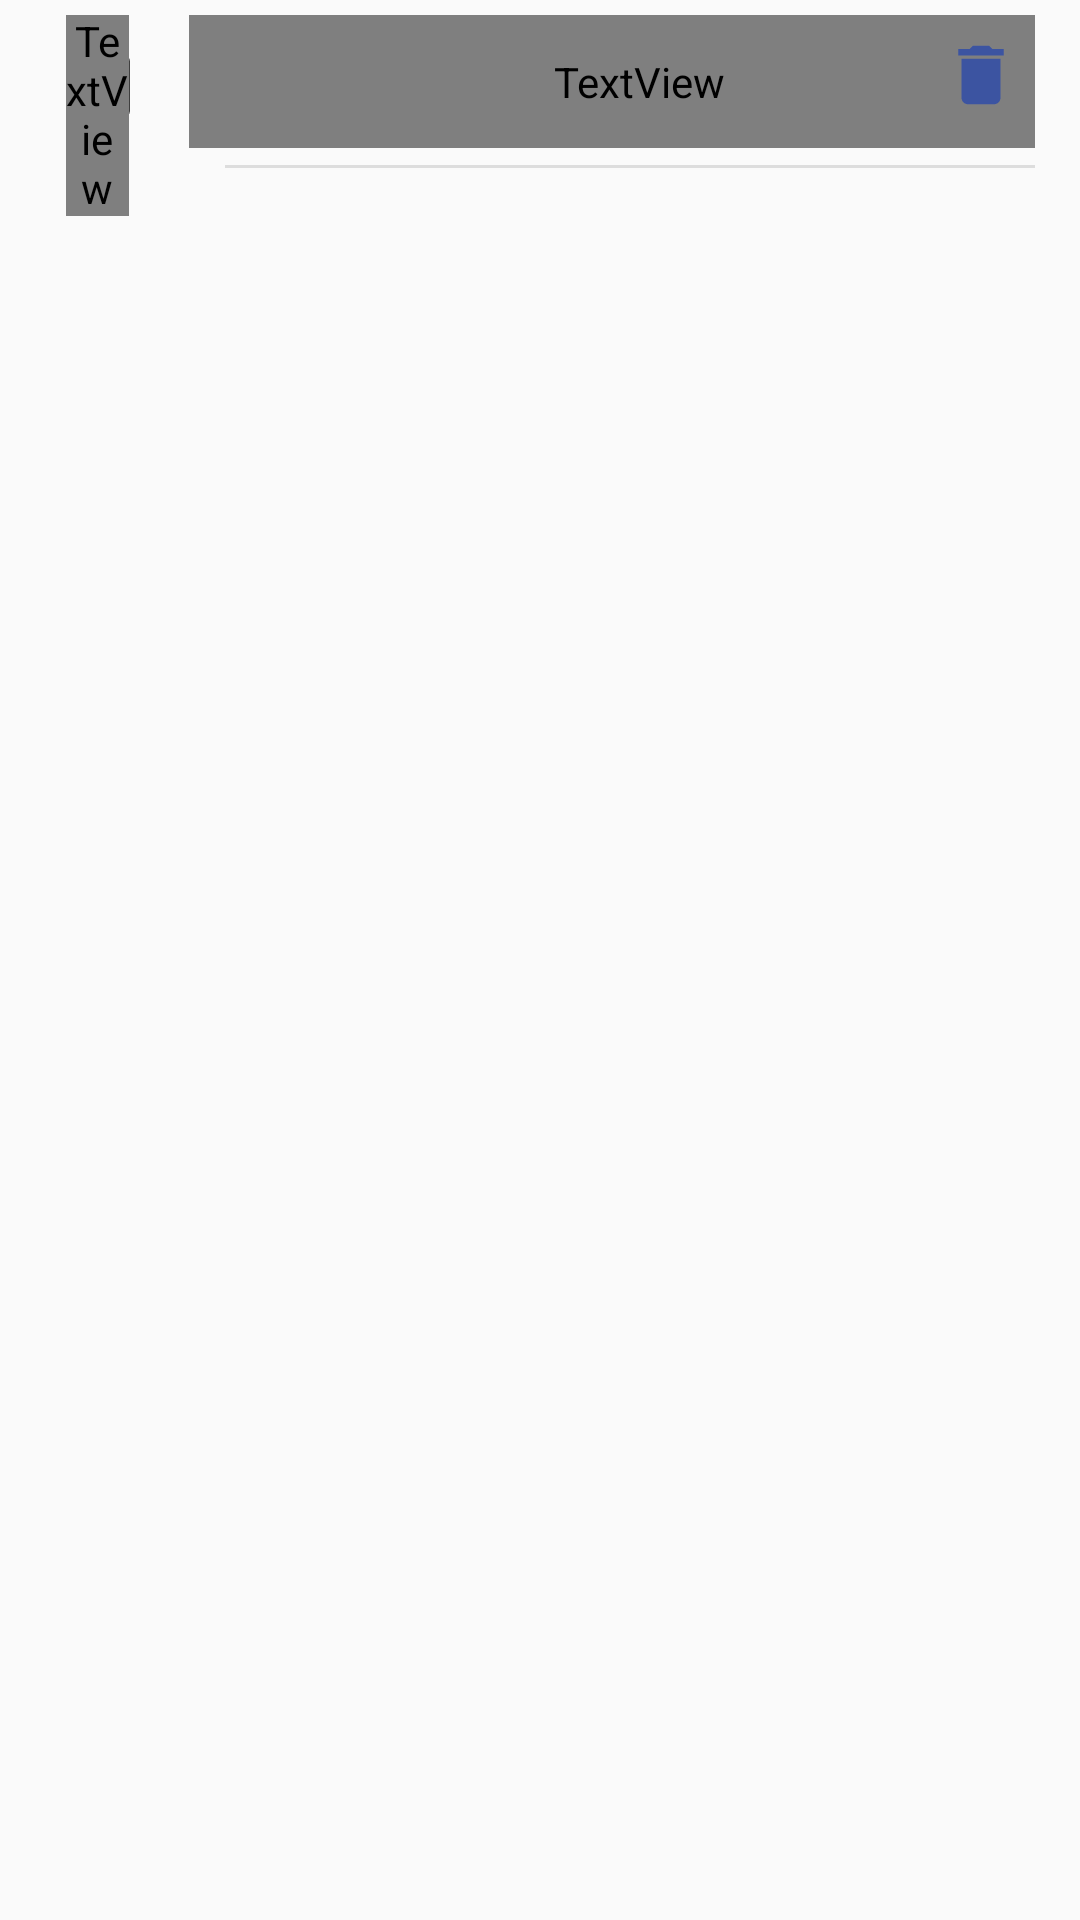

Icons on this 1080w x 1920h Android screen, each with its box as region(x1, y1, x2, y2):
delete: region(958, 46, 1004, 104)
